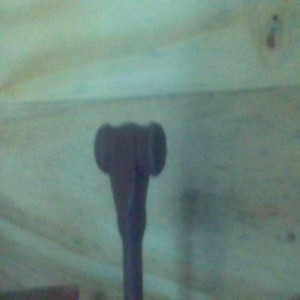palu: (93, 119, 168, 300)
